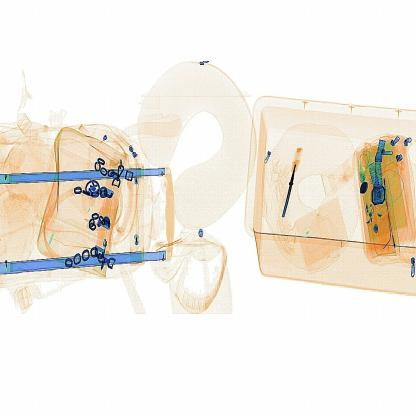gun: (282, 147, 308, 226)
